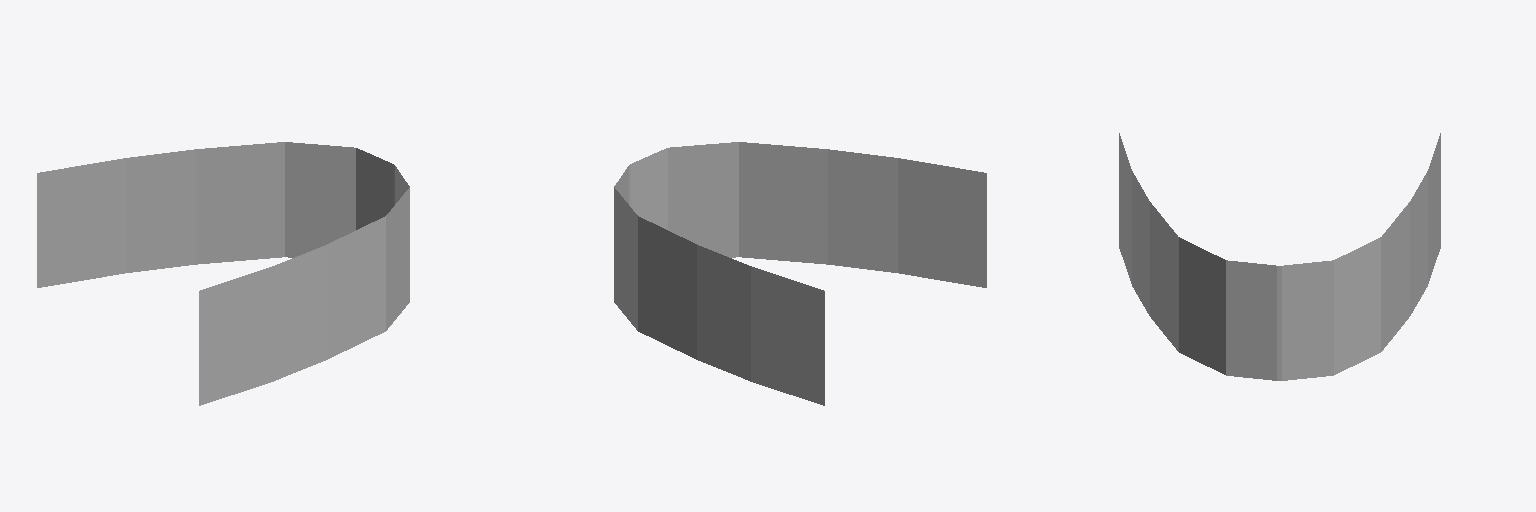
The model's file is Cockpit2-Glass.obj.
3 renders of one model, left to right at view 1: azimuth 30°, elevation 25°; view 2: azimuth 150°, elevation 25°; view 3: azimuth 270°, elevation 25°, orthographic.
Visible parts, largest first — view 1: Plane.001_Plane.002, Plane; view 2: Plane, Plane.001_Plane.002; view 3: Plane.001_Plane.002, Plane.
Boxes of the visible parts, <box> form: Plane.001_Plane.002: <box>37,142,394,287</box>; Plane: <box>199,166,409,405</box>; Plane: <box>631,142,986,287</box>; Plane.001_Plane.002: <box>614,164,824,405</box>; Plane.001_Plane.002: <box>1277,133,1440,380</box>; Plane: <box>1119,133,1276,380</box>.
Size of the model in its own units: 1.09 by 0.4354 by 1.1.